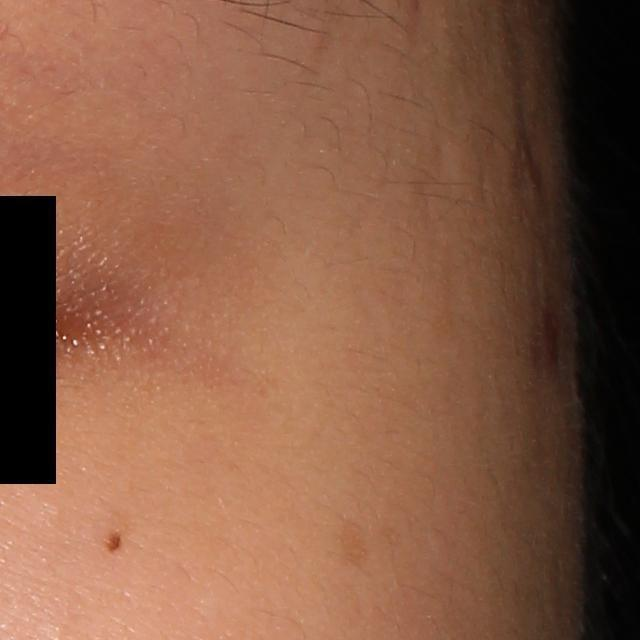melasma: (336, 515, 373, 574)
nevus: (104, 529, 120, 552)
